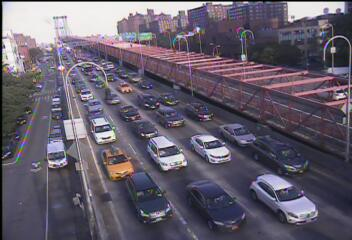neg: (160, 33, 169, 45)
